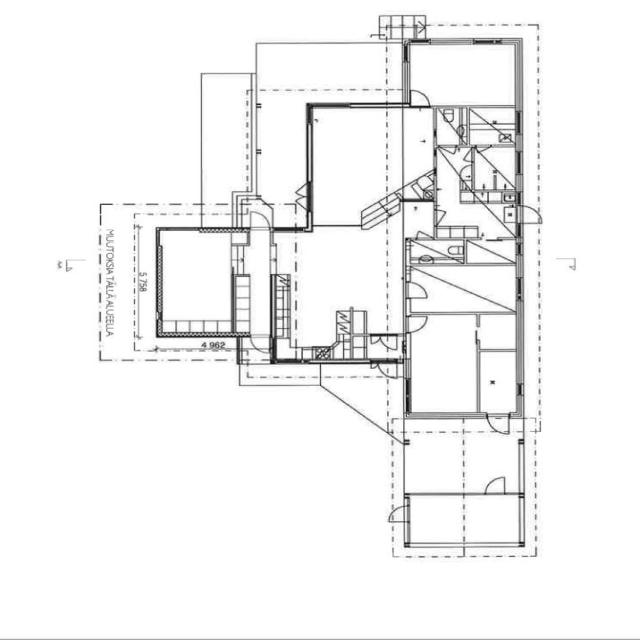door: (402, 279, 432, 301), (484, 412, 510, 435), (481, 474, 508, 496), (246, 210, 271, 232), (406, 87, 432, 107), (404, 314, 429, 334), (517, 204, 541, 224), (248, 334, 271, 354), (376, 334, 401, 352), (374, 361, 400, 378), (386, 505, 410, 523)
window: (300, 117, 318, 186), (512, 442, 528, 494), (358, 204, 386, 228), (425, 36, 476, 48), (514, 494, 526, 544), (407, 489, 461, 499), (514, 150, 525, 177), (514, 254, 525, 280), (514, 133, 525, 153)
zone: (272, 230, 376, 361), (309, 105, 400, 226), (157, 228, 240, 336), (406, 314, 477, 416), (405, 43, 518, 107), (406, 493, 466, 549), (462, 493, 522, 548), (477, 352, 519, 414), (468, 145, 520, 194), (464, 106, 518, 147), (434, 106, 464, 146), (516, 205, 542, 224)
